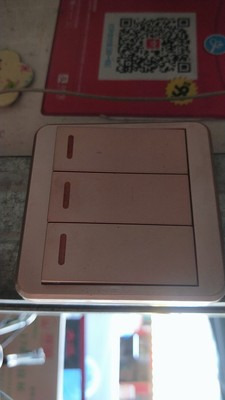switch: (38, 217, 204, 288), (43, 162, 197, 231), (50, 123, 196, 180)
